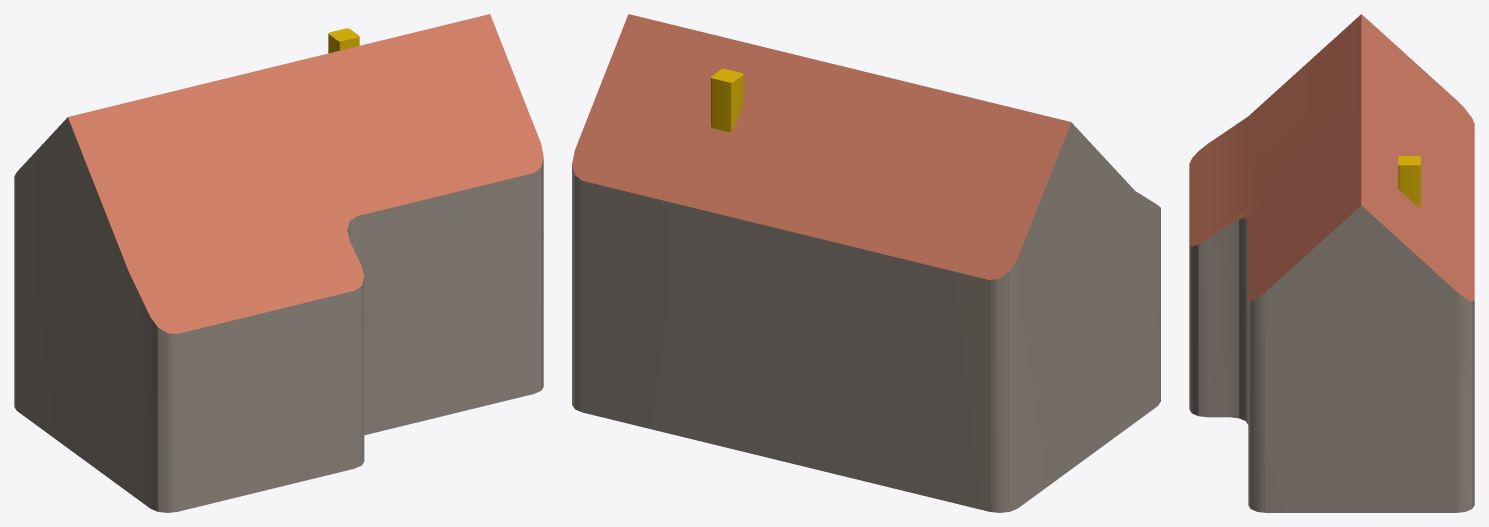
File: SM_LargeHouse.fbx
3 views of the same model, side by side, from view 1: azimuth 30°, elevation 25°; view 2: azimuth 150°, elevation 25°; view 3: azimuth 270°, elevation 25° (orthographic). The views are drawn at different scales.
Parts seen in each view (by area): view 1: pCube6; view 2: pCube6; view 3: pCube6.
Boxes of the visible parts, left/top/right/bottom form: pCube6: left=14, top=14, right=543, bottom=512; pCube6: left=572, top=14, right=1160, bottom=512; pCube6: left=1189, top=14, right=1474, bottom=512.
Bounding box in the file's own units: 2 × 1.5 × 1.26.
